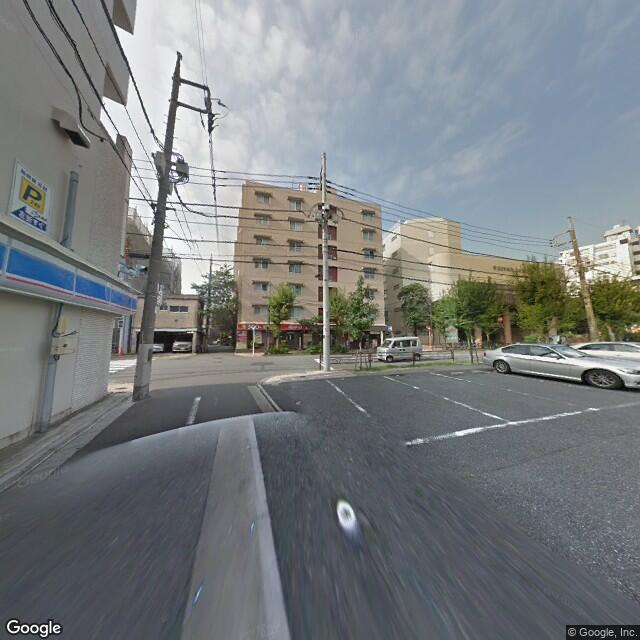lawson: (1, 233, 139, 319)
